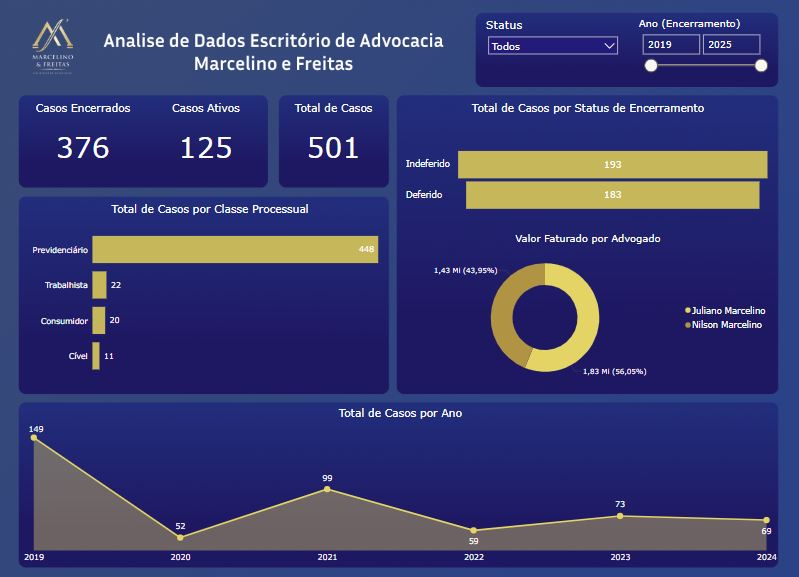

The dashboard page shown, as its layout file describes it:
{"tool":"powerbi","page":{"name":"Página 1","canvas":[1500,1090],"ordinal":0},"visuals":[{"type":"card","title":"Casos Encerrados","fields":{"Values":["Medidas.Casos Encerrados"]},"box":[41.6,190.4,232,144.5],"z":0},{"type":"card","title":"Casos Ativos","fields":{"Values":["Medidas.Casos Ativos"]},"box":[273.6,190.4,227.6,144.5],"z":1000},{"type":"card","title":"Total de Casos","fields":{"Values":["Medidas.Casos Totais"]},"box":[529.7,190.4,197,144.5],"z":2000},{"type":"funnel","title":"Total de Casos por Status de Encerramento","fields":{"Category":["Dados.Status de Encerramento"],"Y":["CountNonNull(Dados.ID do Caso)"]},"box":[757.3,190.4,693.8,271.4],"z":3000},{"type":"donutChart","fields":{"Category":["Dados.Advogado Responsável"],"Y":["Medidas.Valor Faturado"]},"box":[757.3,437.8,693.8,297.7],"z":4000},{"type":"clusteredBarChart","title":"Total de Casos por Classe Processual","fields":{"Category":["Dados.Classe"],"Y":["Medidas.Casos Totais"]},"box":[41.6,380.8,709.2,348],"z":5000},{"type":"areaChart","title":"Total de Casos por Ano","fields":{"Category":["Calendario.dt_data.Variation.Hierarquia de datas.Ano"],"Y":["Medidas.Casos Totais"]},"box":[41.6,763.9,1422.7,302],"z":6000},{"type":"slicer","title":"Status","fields":{"Values":["Dados.Status de Encerramento"]},"box":[908.3,35,262.7,91.9],"z":6001},{"type":"slicer","title":"Ano (Encerramento)","fields":{"Values":["Dados.Data de Encerramento.Variation.Hierarquia de datas.Ano"]},"box":[1195.1,32.8,256.1,118.2],"z":6002}]}

Visuals, with their boxes in screenshot pixels (x1, y1, x2, y2), scaled from the page's 1500x1090 canvas onto the 799x577 screenshot:
"Casos Encerrados" card: [left=22, top=101, right=146, bottom=177]
"Casos Ativos" card: [left=146, top=101, right=267, bottom=177]
"Total de Casos" card: [left=282, top=101, right=387, bottom=177]
"Total de Casos por Status de Encerramento" funnel: [left=403, top=101, right=773, bottom=244]
donutChart - Dados.Advogado Responsável x Medidas.Valor Faturado: [left=403, top=232, right=773, bottom=389]
"Total de Casos por Classe Processual" clusteredBarChart: [left=22, top=202, right=400, bottom=386]
"Total de Casos por Ano" areaChart: [left=22, top=404, right=780, bottom=564]
"Status" slicer: [left=484, top=19, right=624, bottom=67]
"Ano (Encerramento)" slicer: [left=637, top=17, right=773, bottom=80]
